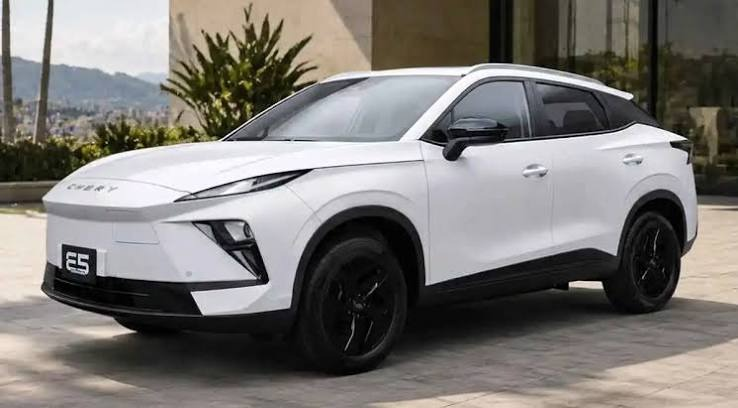car: (31, 56, 699, 367)
